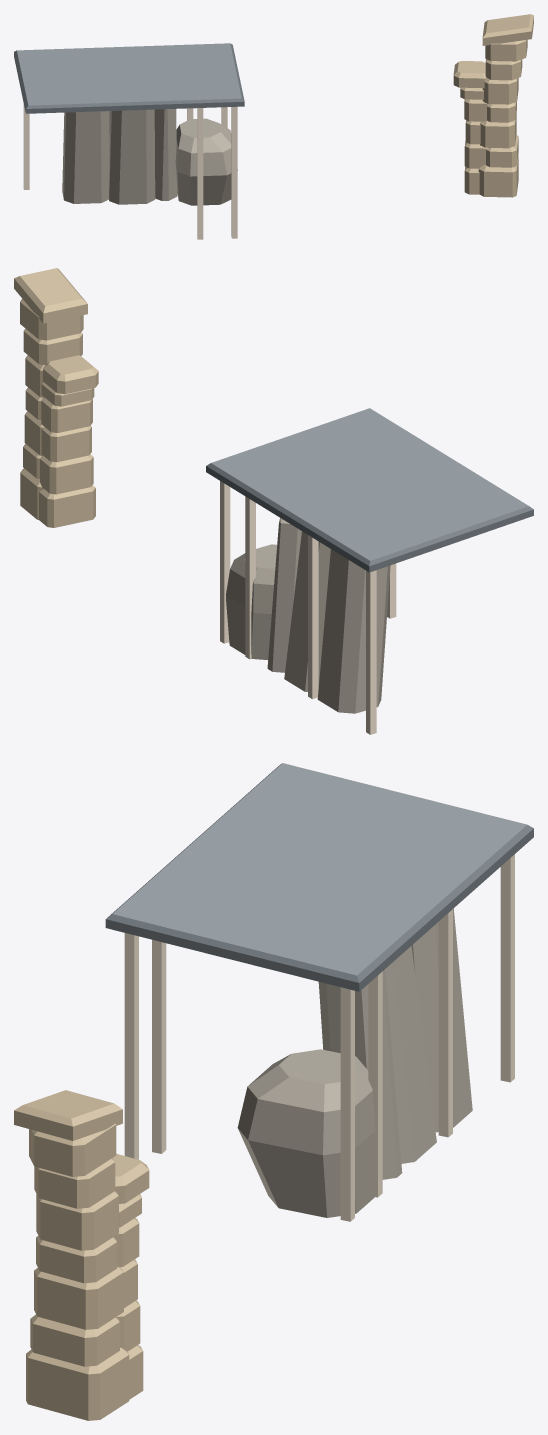
File: usnwc-climbing-center.glb
The picture shows the model from 3 angles, top to bottom: view 1: azimuth 30°, elevation 25°; view 2: azimuth 150°, elevation 25°; view 3: azimuth 270°, elevation 25°; orthographic projection. The views are drawn at different scales.
Visible parts, largest first — view 1: U.S. National Whitewater Center Climbing Center; view 2: U.S. National Whitewater Center Climbing Center; view 3: U.S. National Whitewater Center Climbing Center.
Part boxes in pixels (box(x1,y1,x2,y2)): U.S. National Whitewater Center Climbing Center: box(14, 14, 533, 239); U.S. National Whitewater Center Climbing Center: box(14, 268, 533, 734); U.S. National Whitewater Center Climbing Center: box(14, 763, 533, 1420).
Size of the model in its own units: 39.48 by 13.94 by 21.28.
